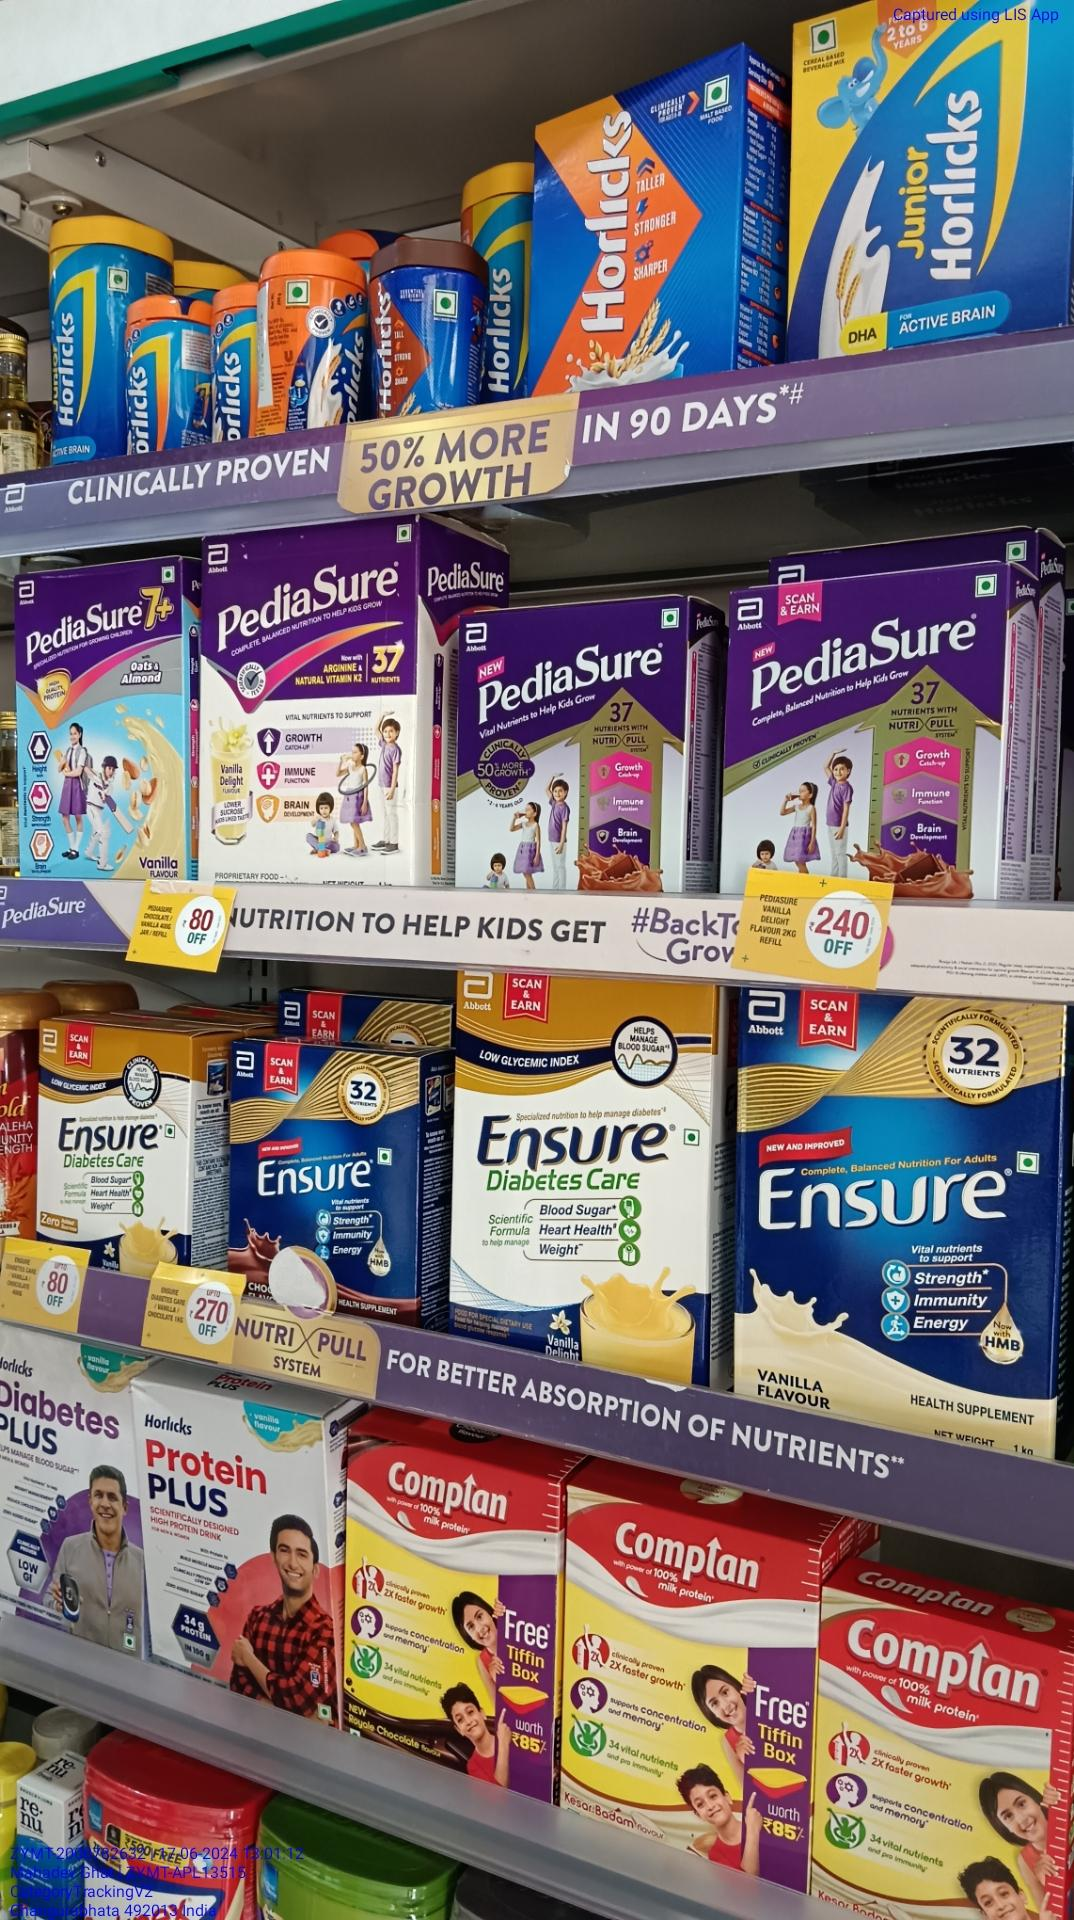COMPLAN_CHOCOLATE_500_GMS_PACK: (348, 1439, 550, 1795)
COMPLAN_KESAR_BADAM_500_GMS_PACK: (566, 1489, 807, 1882)
ENSURE_VANILLA_400_G_PACK: (232, 1043, 421, 1305)
HORLICKS_JUNIOR_VANILLA_500_GM_JAR: (49, 212, 123, 460)
HORLICK_CHOCOLATE_200_G_JAR: (365, 243, 470, 414)
HORLICK_CLASSIC_MALT_200_G_JAR: (129, 295, 190, 451)
HORLICK_CLASSIC_MALT_500_G_PACK: (530, 86, 745, 375)
PEDIASURE_CHOCOLATE_500_G_PACK: (727, 585, 1003, 886), (460, 612, 686, 887)
